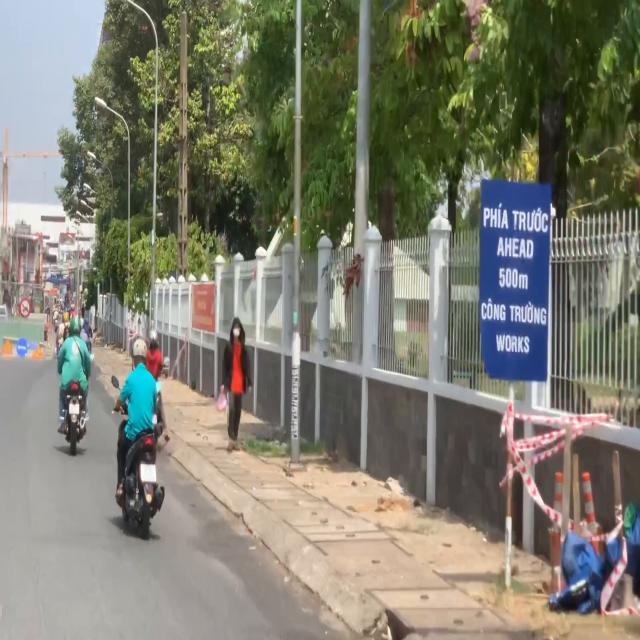Cam con lai: (19, 296, 31, 318)
Nguy hiem: (0, 335, 13, 357), (32, 341, 44, 361)
Re trai: (16, 337, 29, 359)
